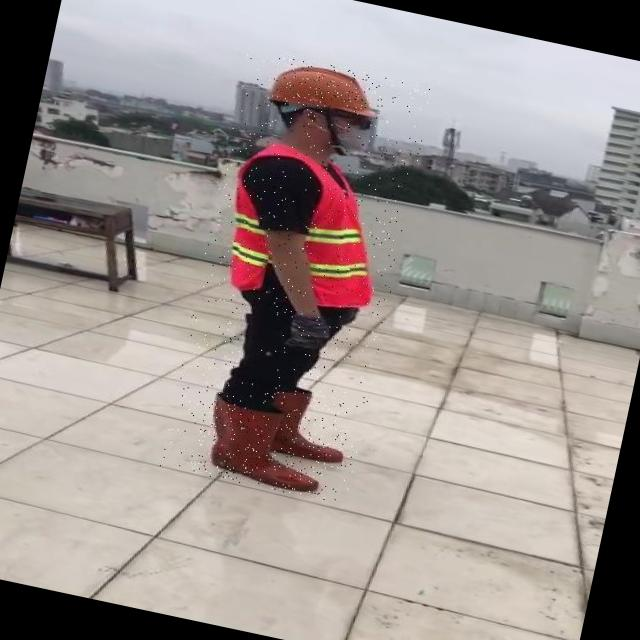hard_hat: (268, 54, 389, 124)
safety_vest: (207, 135, 401, 314)
vehicle: (160, 49, 434, 506)
work_boots: (192, 388, 334, 499), (258, 383, 354, 468)
